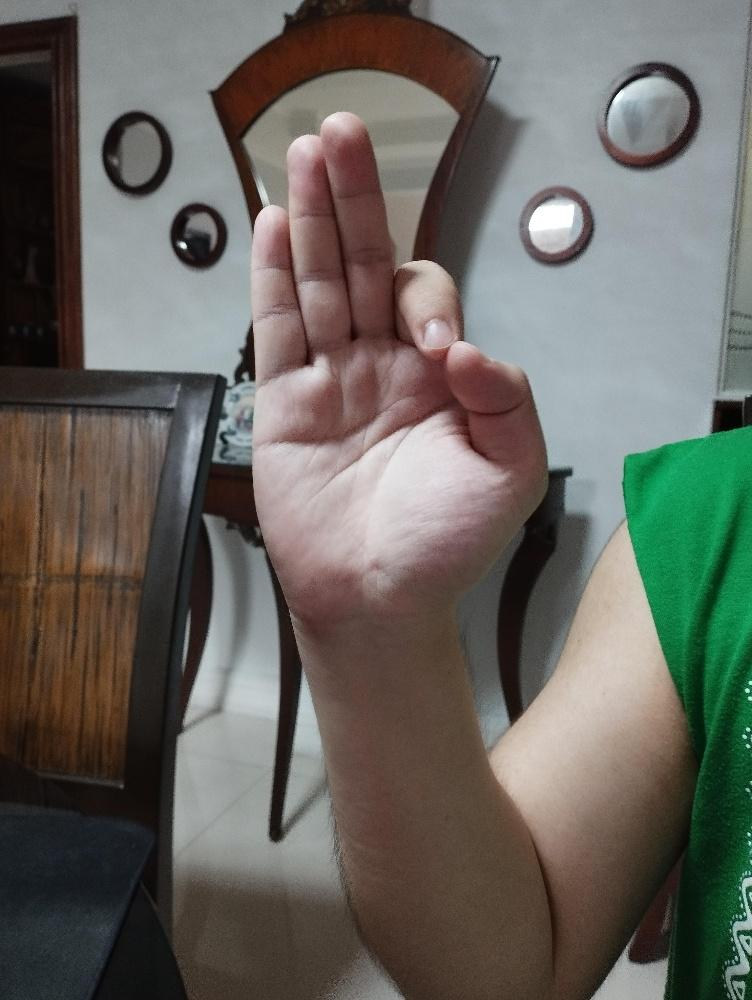f: (246, 107, 553, 623)
